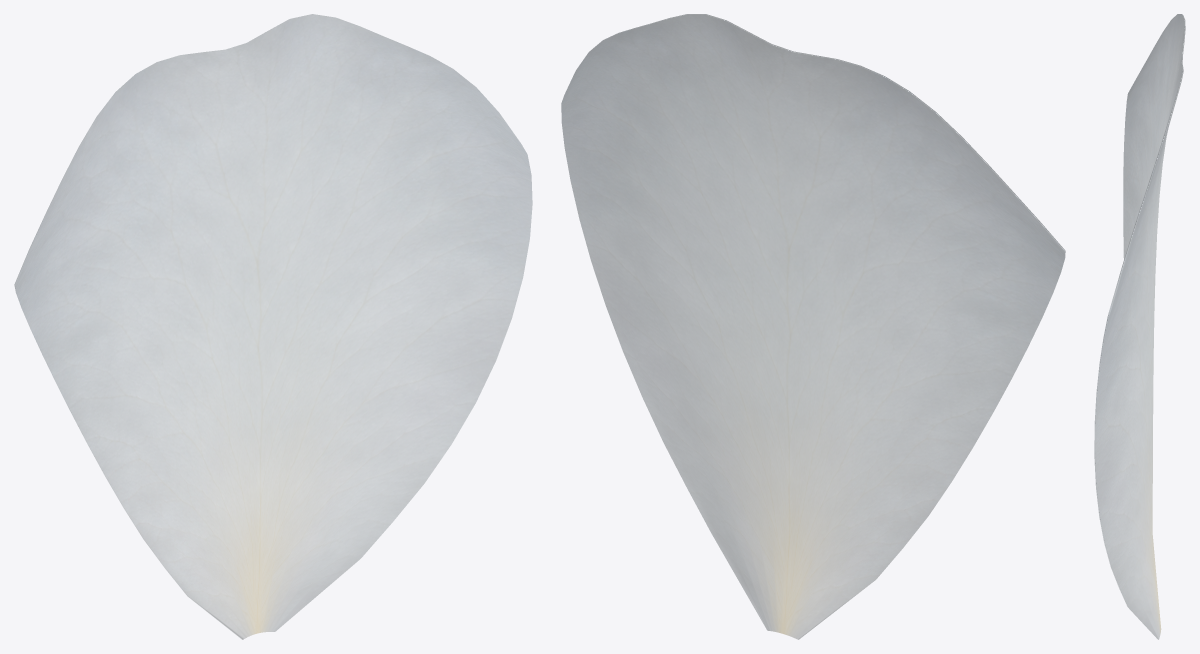
File: outer_03.glb
3 views of the same model, side by side, from view 1: azimuth 30°, elevation 25°; view 2: azimuth 150°, elevation 25°; view 3: azimuth 270°, elevation 25° (orthographic). The views are drawn at different scales.
Visible parts, largest first — view 1: outer_03; view 2: outer_03; view 3: outer_03.
Part boxes in pixels (<box>): outer_03: <box>14,14,532,639</box>; outer_03: <box>561,14,1065,639</box>; outer_03: <box>1094,14,1185,639</box>.
Bounding box in the file's own units: 0.0799 × 0.0908 × 0.0129.
Materials: 1 (1 with a texture image).
